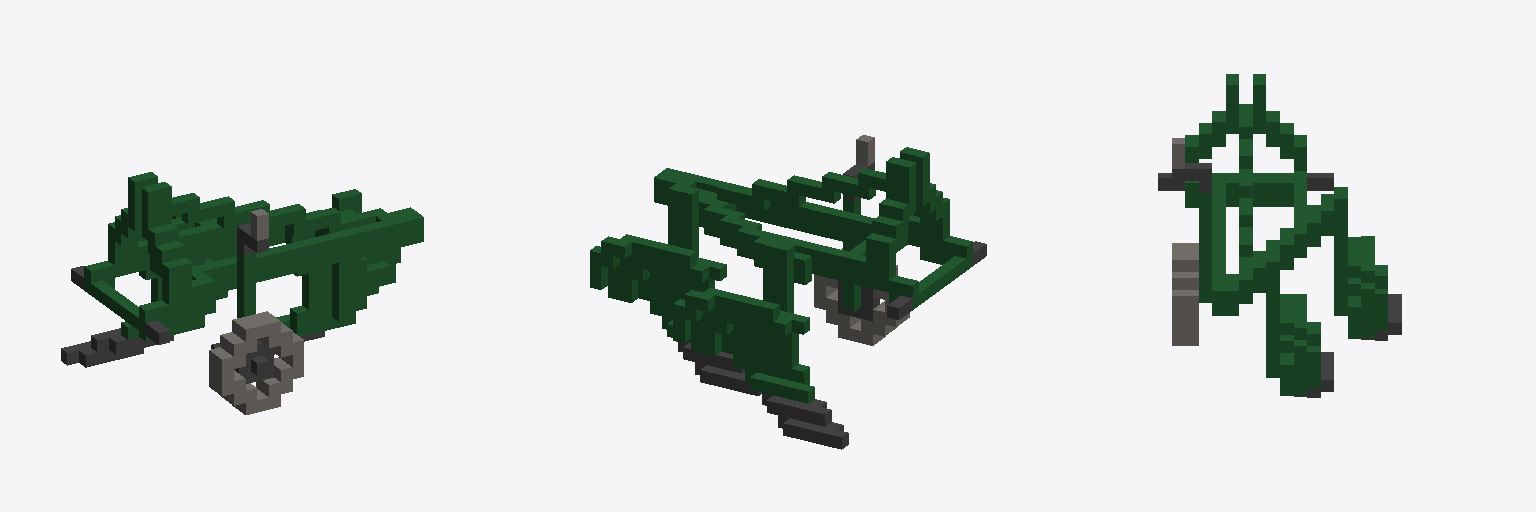
3 renders of one model, left to right at view 1: azimuth 30°, elevation 25°; view 2: azimuth 150°, elevation 25°; view 3: azimuth 270°, elevation 25°, orthographic.
Visible parts, largest first — view 1: object 1; view 2: object 1; view 3: object 1.
Boxes of the visible parts, x1,y1,x2,y2 form: object 1: [61, 172, 423, 414]; object 1: [590, 135, 986, 449]; object 1: [1158, 74, 1401, 397].
Size of the model in its own units: 2.7 by 1.9 by 1.8.
Materials: 1 (1 with a texture image).